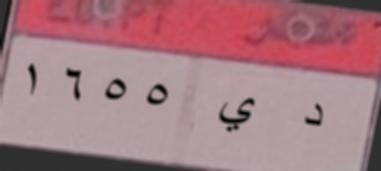1: (21, 56, 44, 101)
5: (139, 80, 170, 122), (98, 72, 131, 106)
6: (58, 60, 87, 105)
daal: (292, 93, 326, 138)
yaa: (212, 92, 256, 138)
